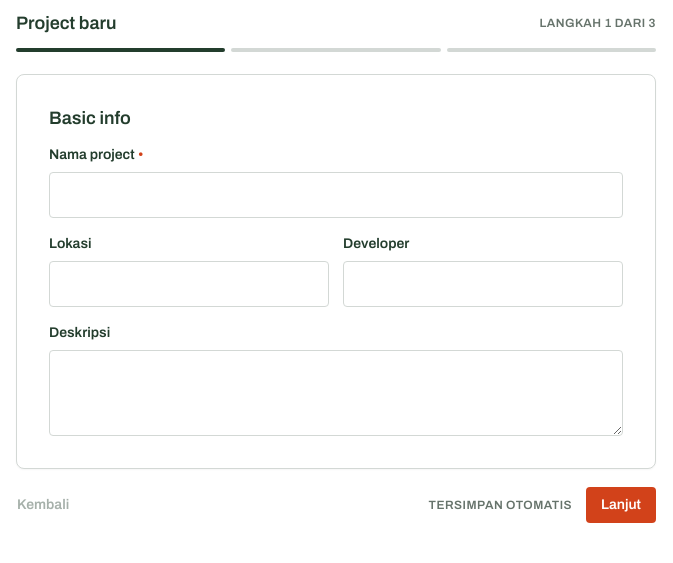
CreateProjectWizard — simpan otomatis per langkah › klik "Lanjut" dengan nama kosong tidak membuat project dan menampilkan error inline, bukan pindah langkah
Click the button "Lanjut": [621, 505] box [586,487,656,523]
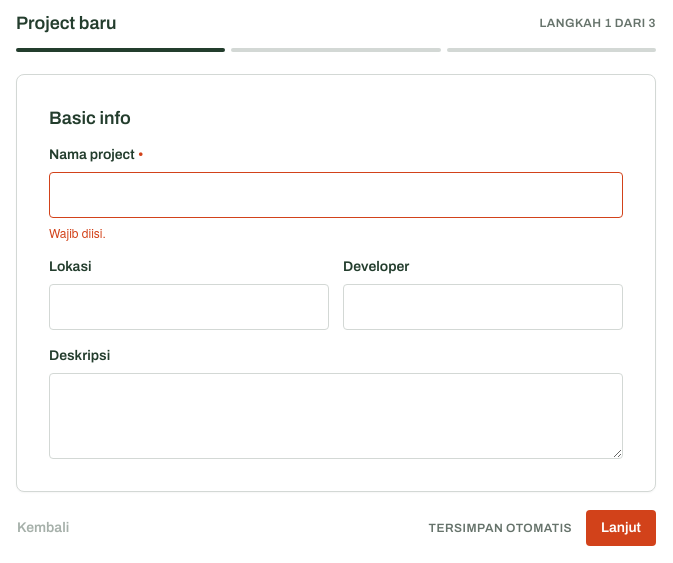
Result: the text "Wajib diisi." is shown at [49,224,106,241]
